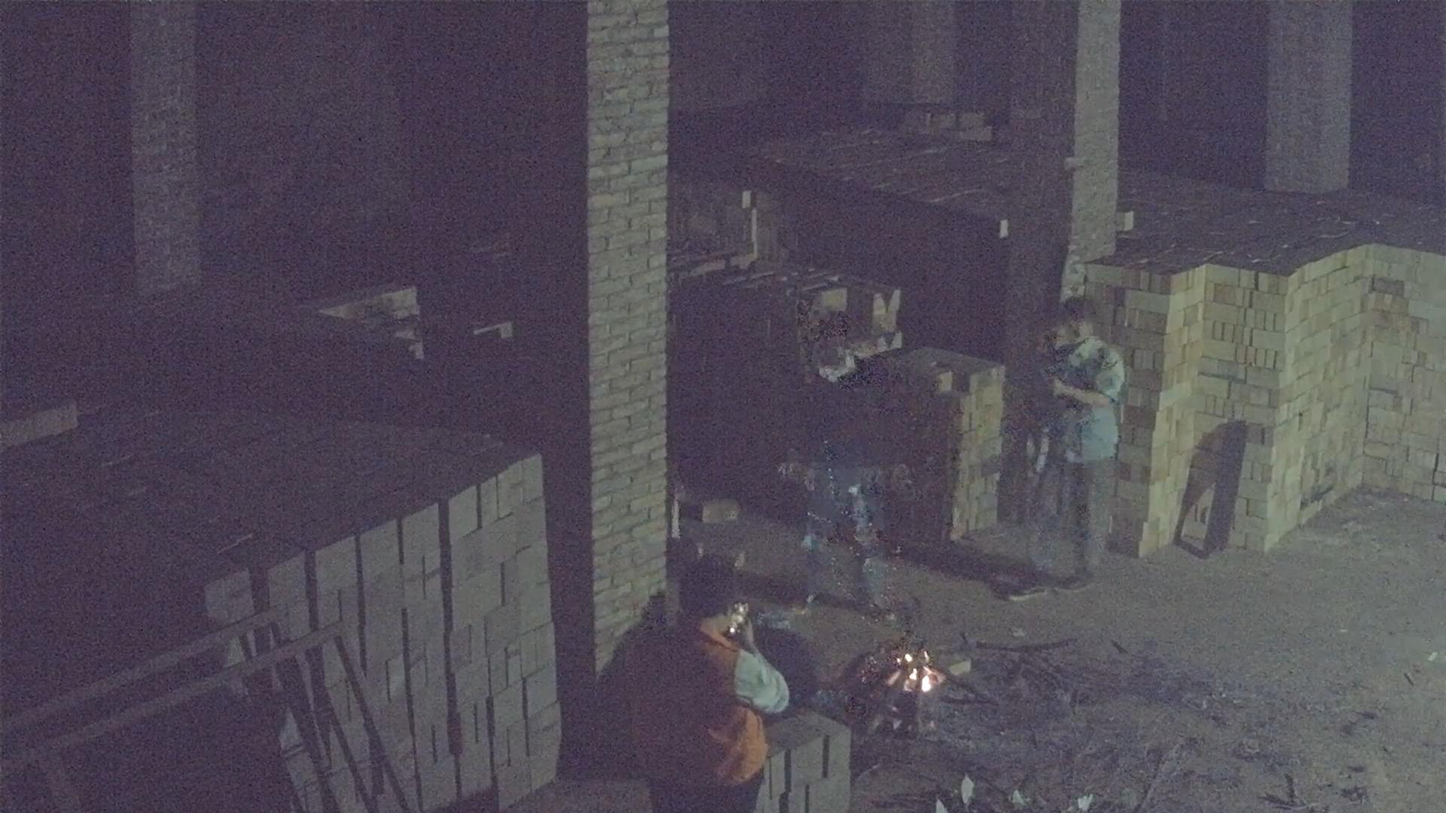fire: (881, 645, 943, 694)
